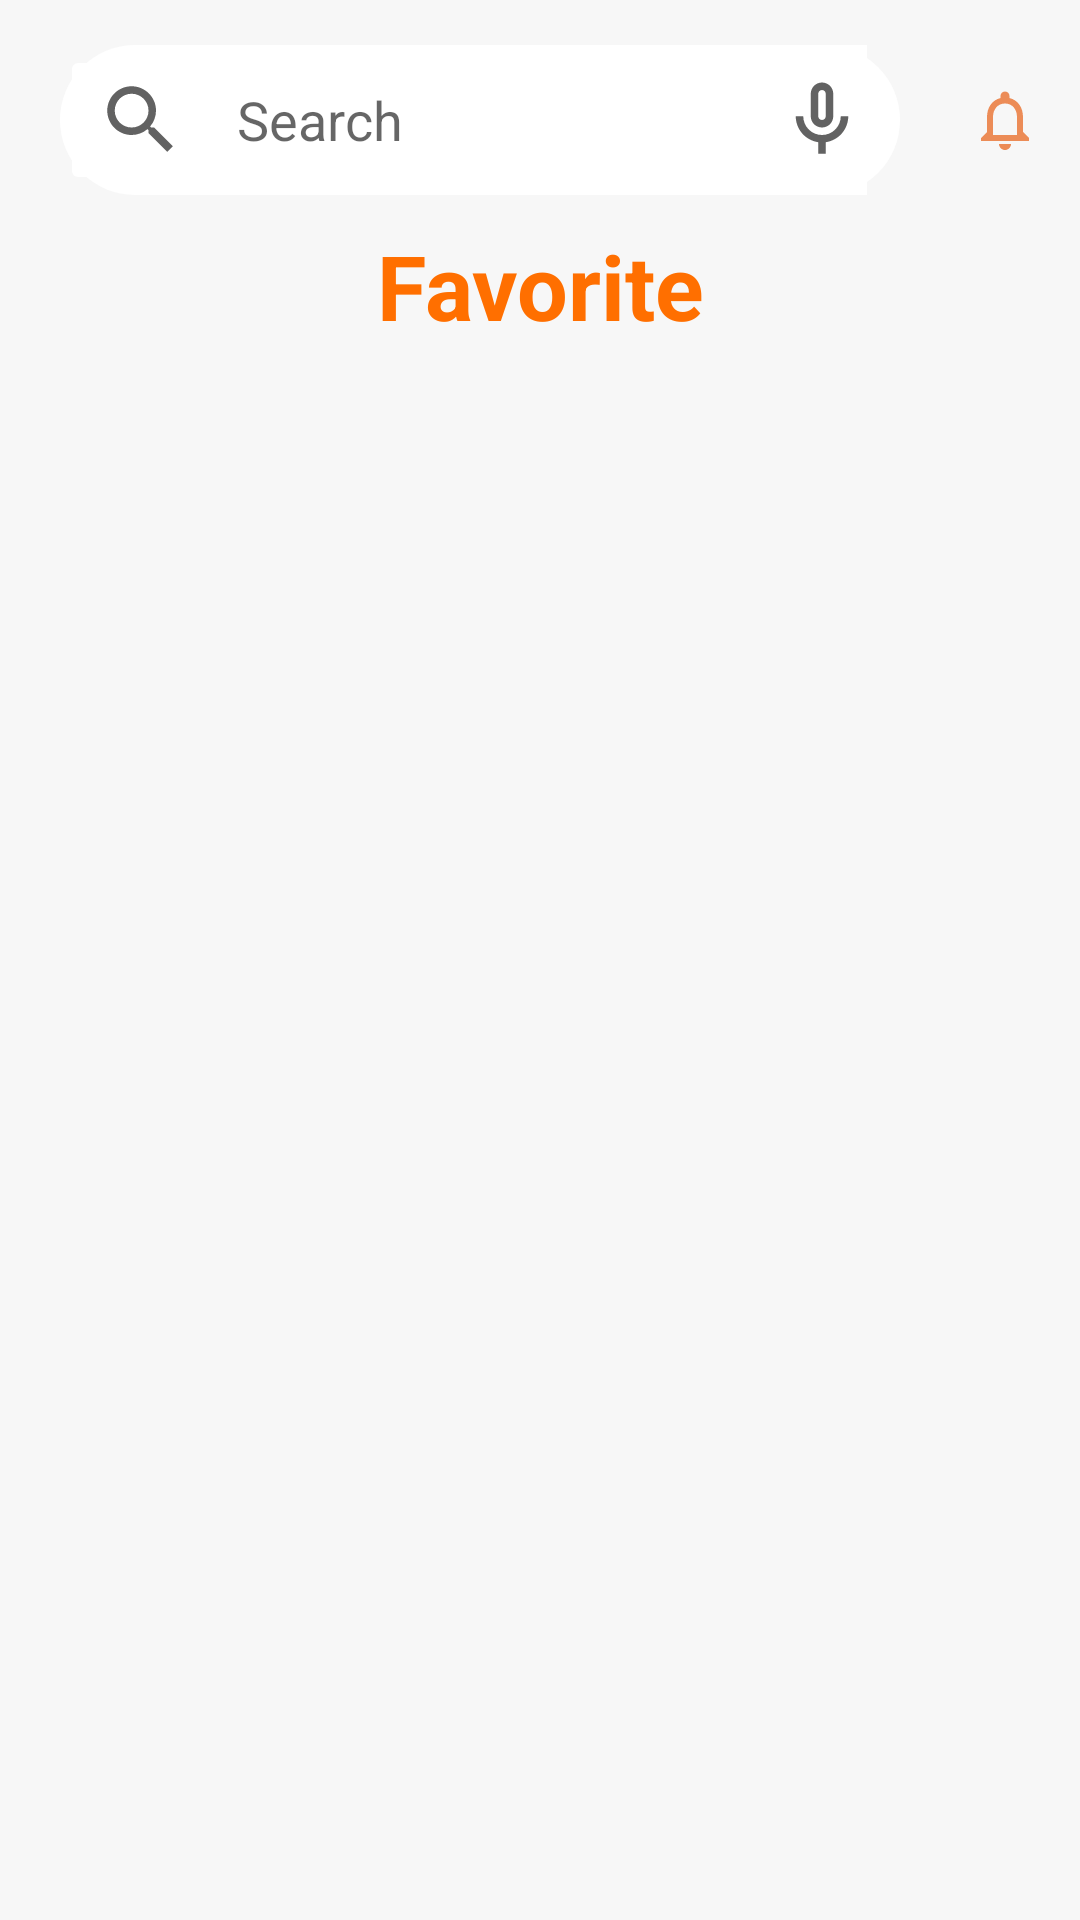

Point at icon controls on the screen. Image size 1080px×1920px, points as [x,y].
mic none: [822,118]
notifications: [1005,120]
